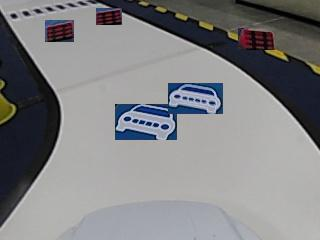crosswalk: (6, 0, 93, 19)
